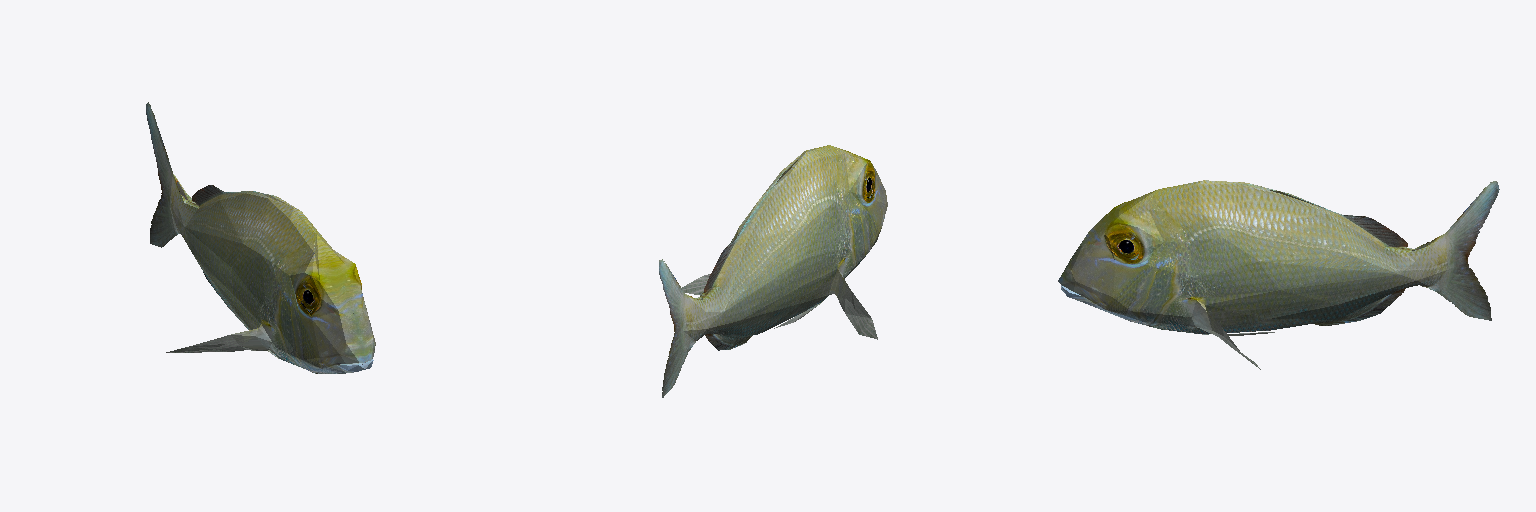
3 views of the same model, side by side, from view 1: azimuth 30°, elevation 25°; view 2: azimuth 150°, elevation 25°; view 3: azimuth 270°, elevation 25° (orthographic).
Parts seen in each view (by area): view 1: Calamus_calamus; view 2: Calamus_calamus; view 3: Calamus_calamus.
Part boxes in pixels (x1,y1,x2,y2): Calamus_calamus: (146,102,375,373); Calamus_calamus: (659,145,887,397); Calamus_calamus: (1058,180,1499,369).
Size of the model in its own units: 128 by 92.29 by 244.
Materials: 1 (1 with a texture image).